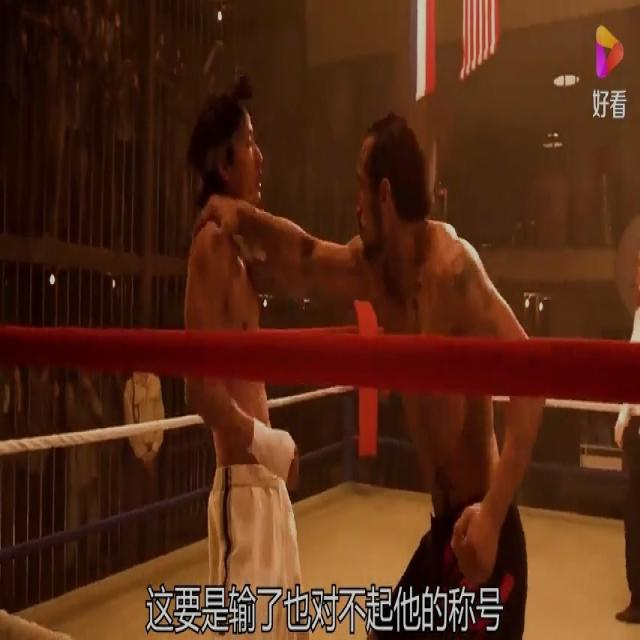fight: (178, 71, 544, 640)
